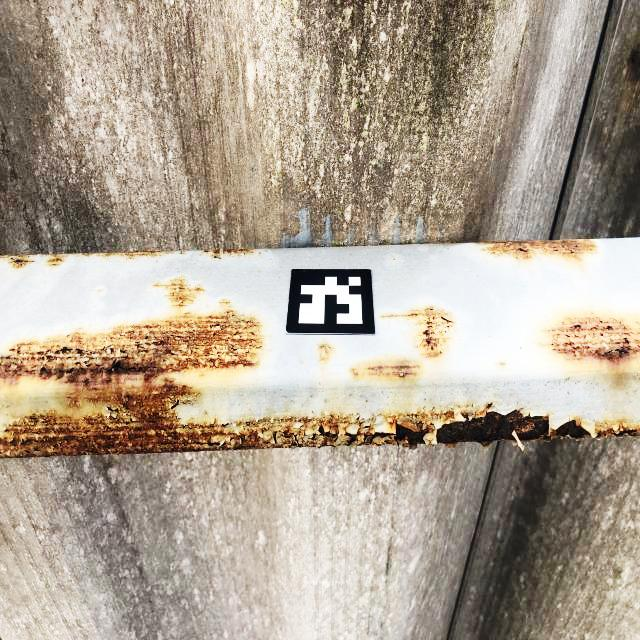Corrosion: (0, 274, 640, 459), (539, 309, 640, 374), (378, 305, 457, 363), (477, 239, 600, 267), (349, 358, 423, 381), (0, 253, 98, 269), (100, 250, 172, 260), (202, 249, 261, 260), (317, 340, 335, 366), (494, 361, 506, 367), (179, 251, 187, 255)
